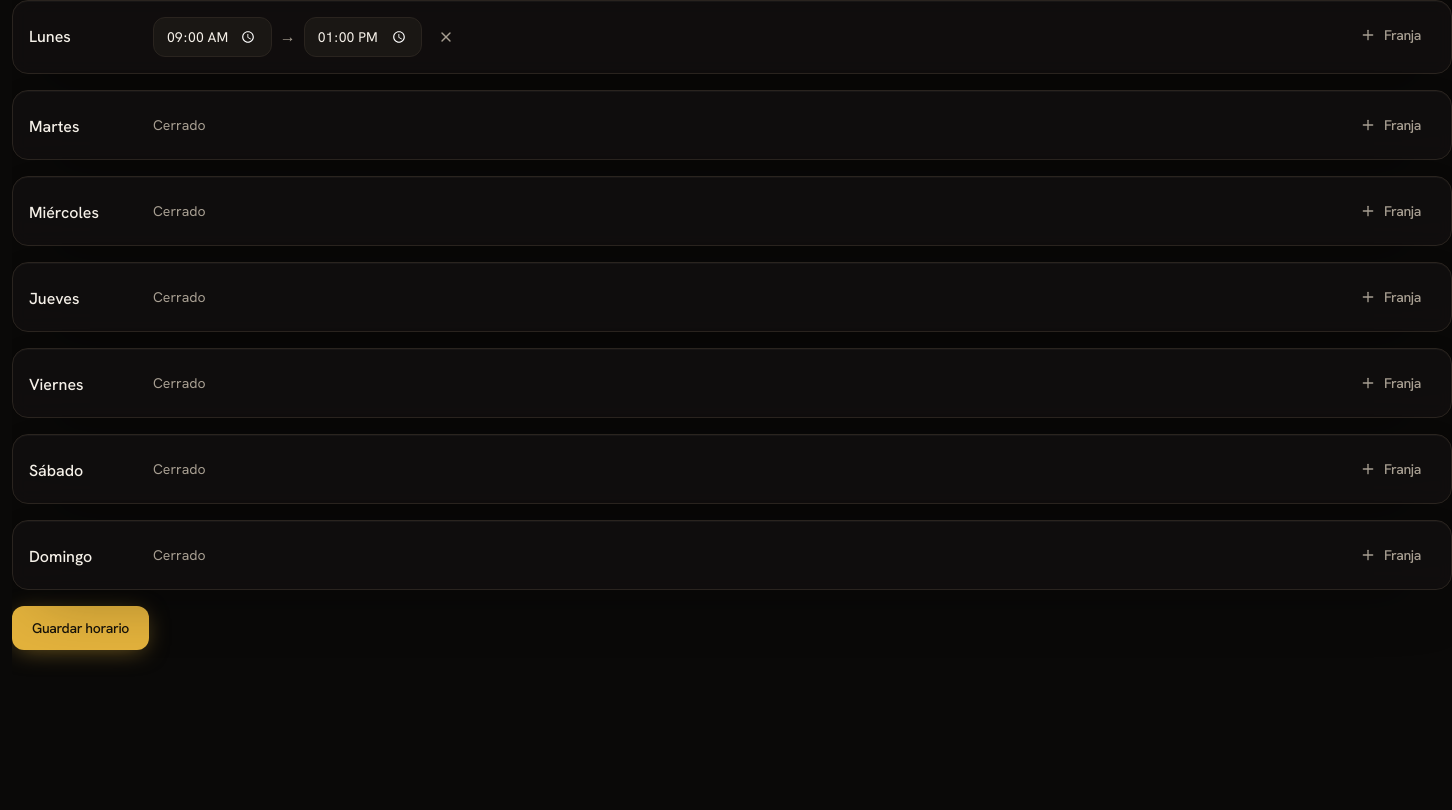
Test: ScheduleEditor › confirms when the schedule was saved
Click the button "Guardar horario".
click(80, 628)  # box [12,606,149,650]
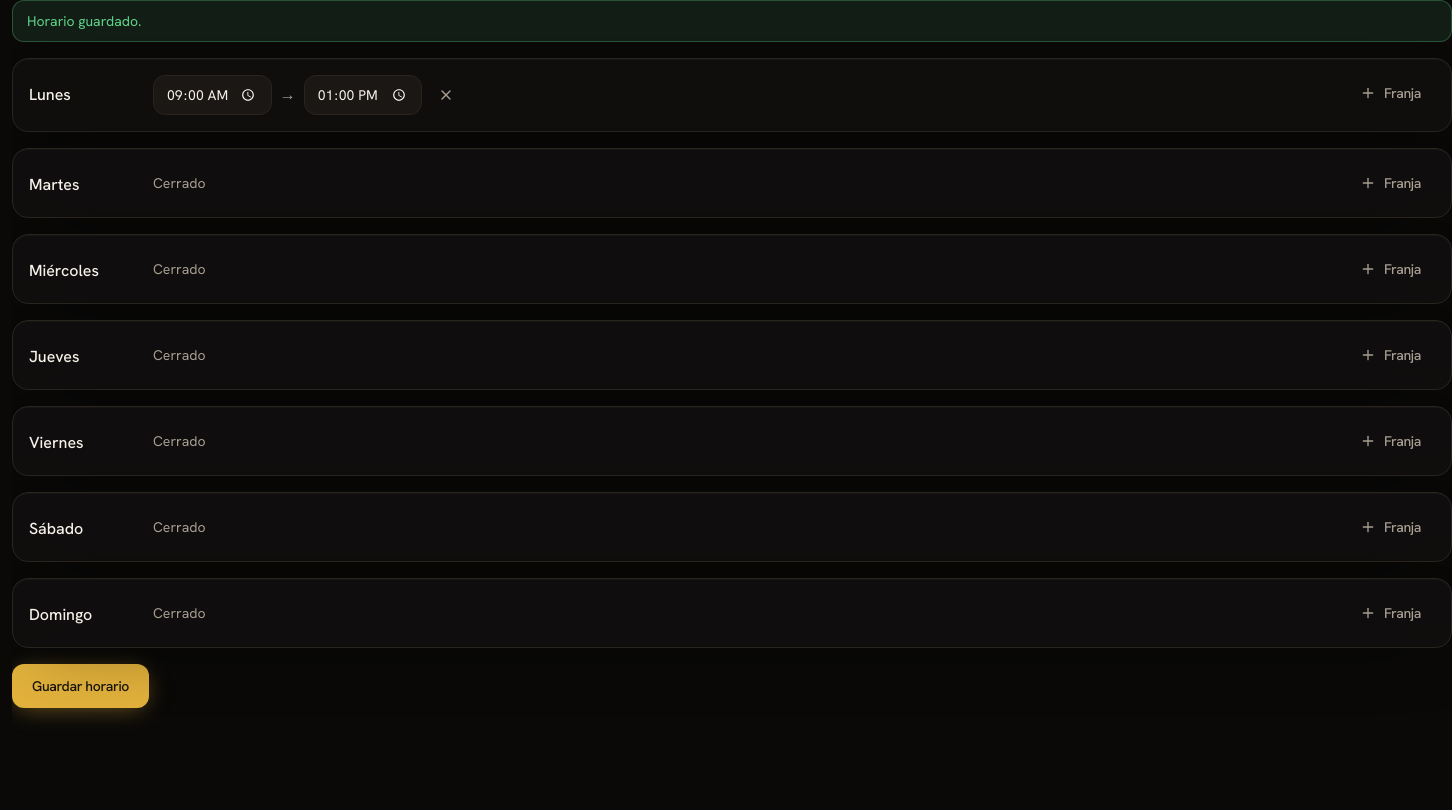
Expected: the text "Horario guardado." is shown, [12,0,1451,42]
